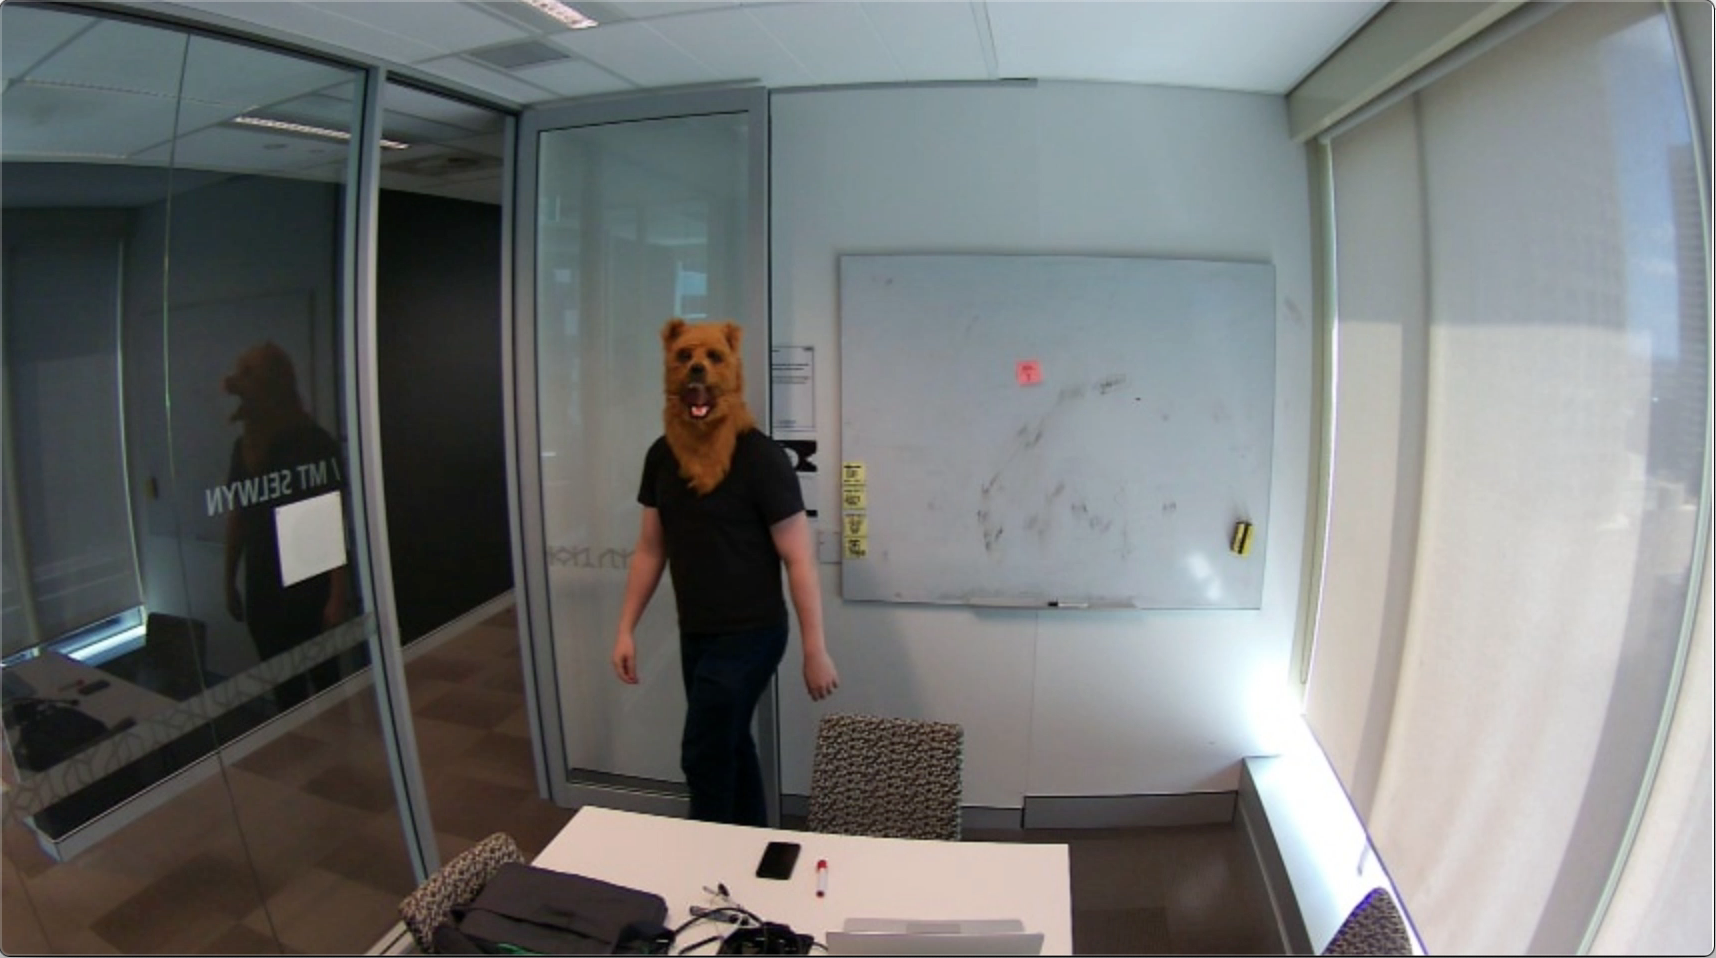Bear: (656, 313, 753, 437)
